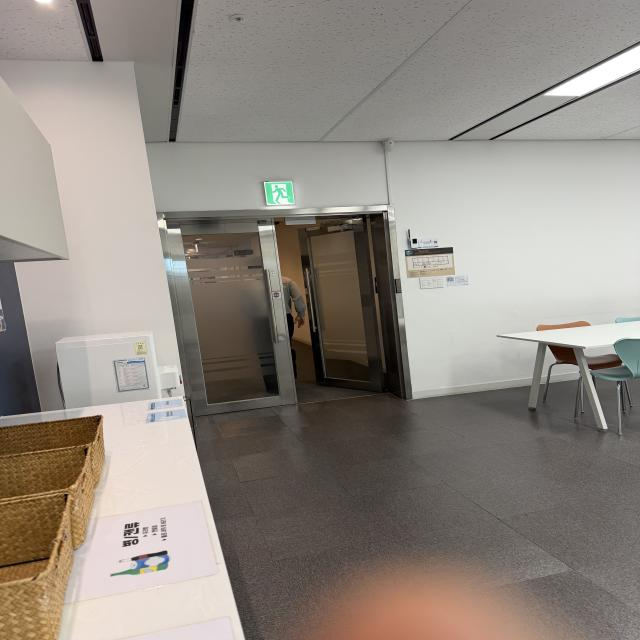rear_door: (164, 212, 400, 415)
